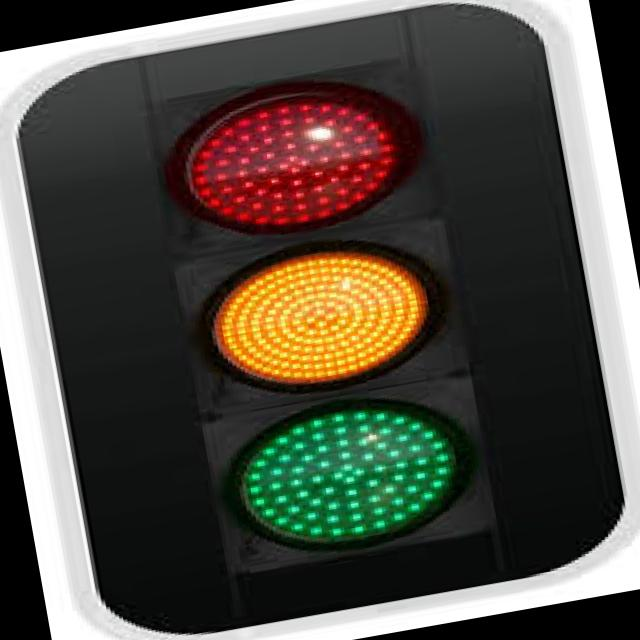green-lights: (220, 383, 476, 564)
red-lights: (172, 72, 410, 244)
yellow-lights: (196, 227, 449, 407)
